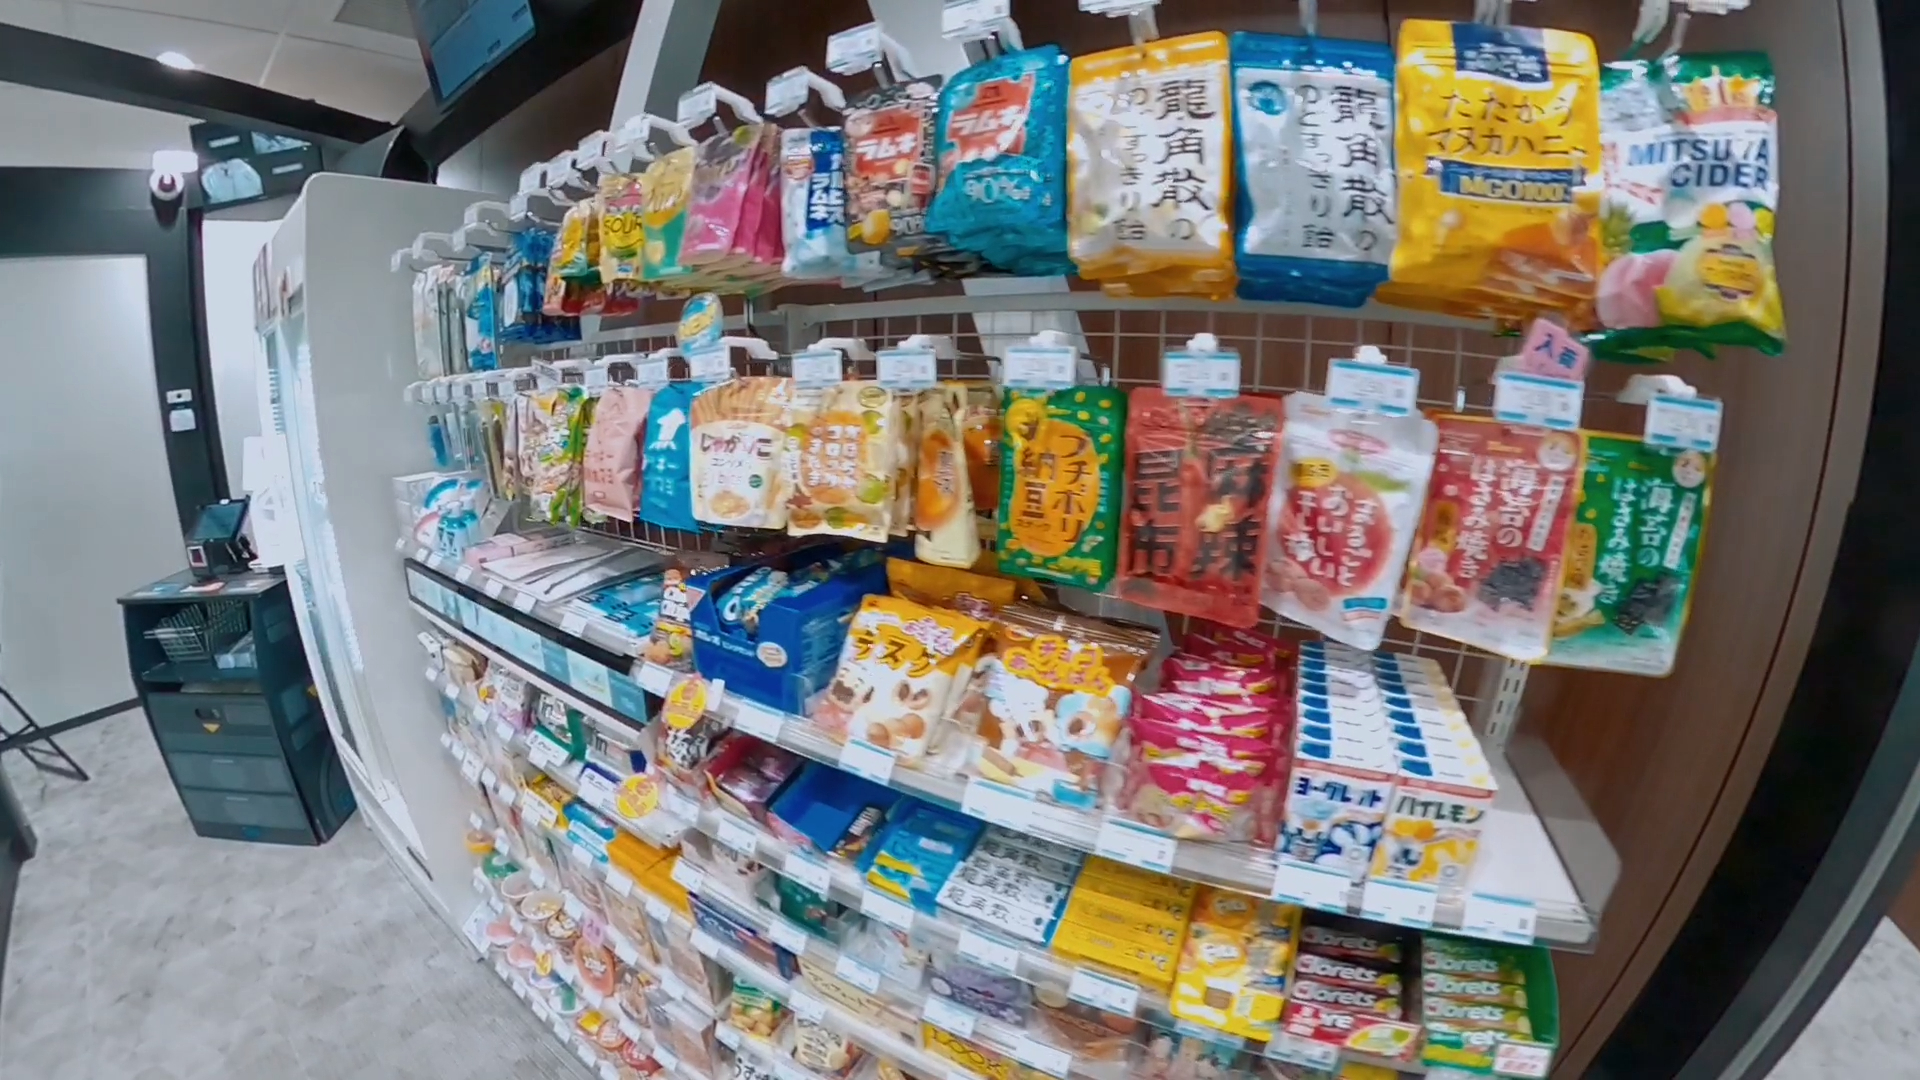NorinoHasamiyaki: (1548, 433, 1721, 679)
